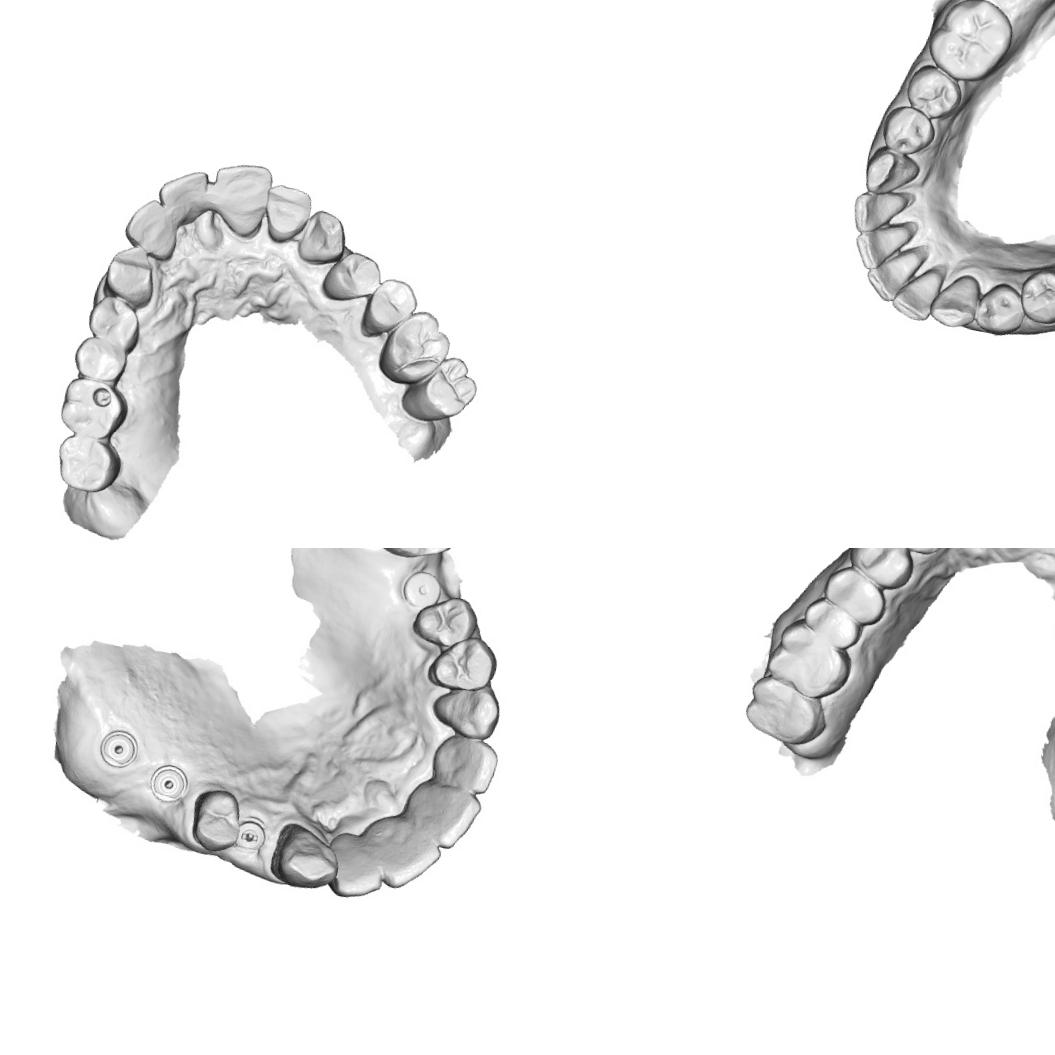canine: (265, 818, 345, 894), (427, 673, 506, 743), (98, 240, 162, 311), (860, 142, 924, 201), (925, 267, 984, 331), (293, 205, 351, 269)
implant: (142, 758, 192, 808), (396, 566, 446, 612), (94, 725, 142, 771)
implant_minus: (232, 812, 270, 856)
incisor: (360, 811, 447, 896), (396, 772, 486, 854), (204, 155, 276, 241), (319, 828, 391, 905), (427, 730, 502, 797), (119, 193, 185, 262), (256, 181, 316, 248), (849, 216, 914, 276), (151, 162, 210, 228), (888, 259, 946, 324), (846, 184, 910, 240), (860, 248, 916, 305)
molar: (760, 614, 858, 706), (920, 0, 1019, 89), (738, 670, 835, 752), (374, 302, 457, 392), (397, 346, 482, 431), (54, 372, 132, 444), (50, 430, 125, 498), (797, 593, 866, 652), (367, 548, 463, 568)
premolar: (424, 628, 501, 697), (817, 562, 893, 630), (408, 588, 483, 653), (184, 782, 248, 857), (358, 272, 421, 343), (900, 58, 966, 124), (318, 246, 386, 310), (81, 290, 147, 354), (969, 277, 1031, 340), (876, 100, 940, 160), (842, 548, 921, 593), (68, 334, 130, 385), (1013, 262, 1055, 328)
